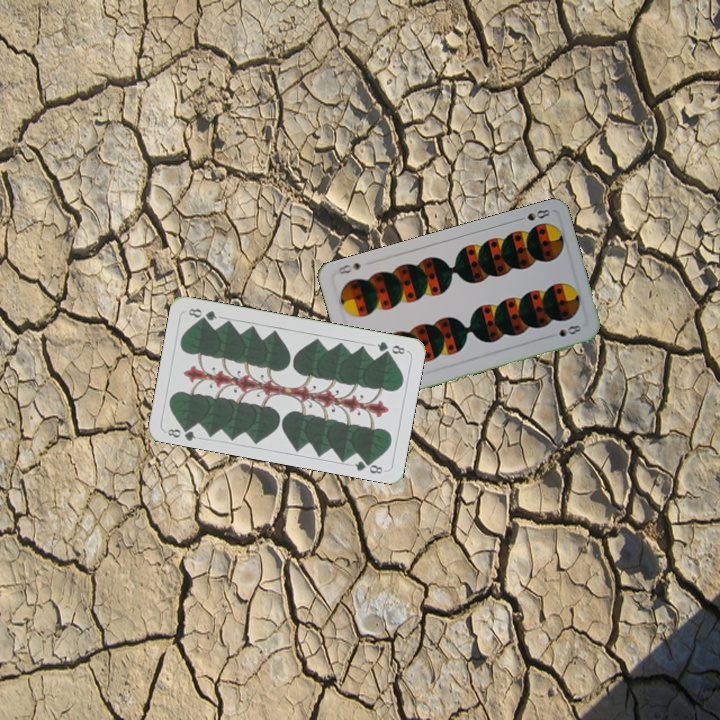G8: (163, 421, 198, 443), (373, 337, 408, 357)
S8: (513, 205, 553, 224)
